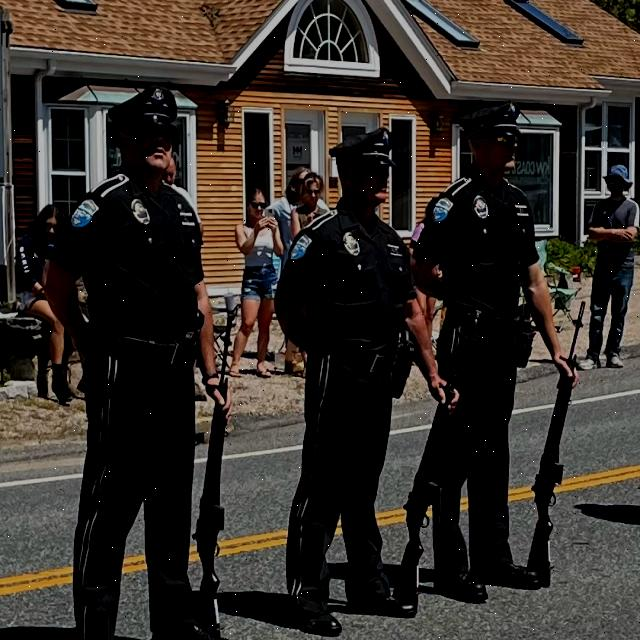police: (42, 75, 249, 640), (272, 109, 461, 640), (418, 88, 586, 587)
